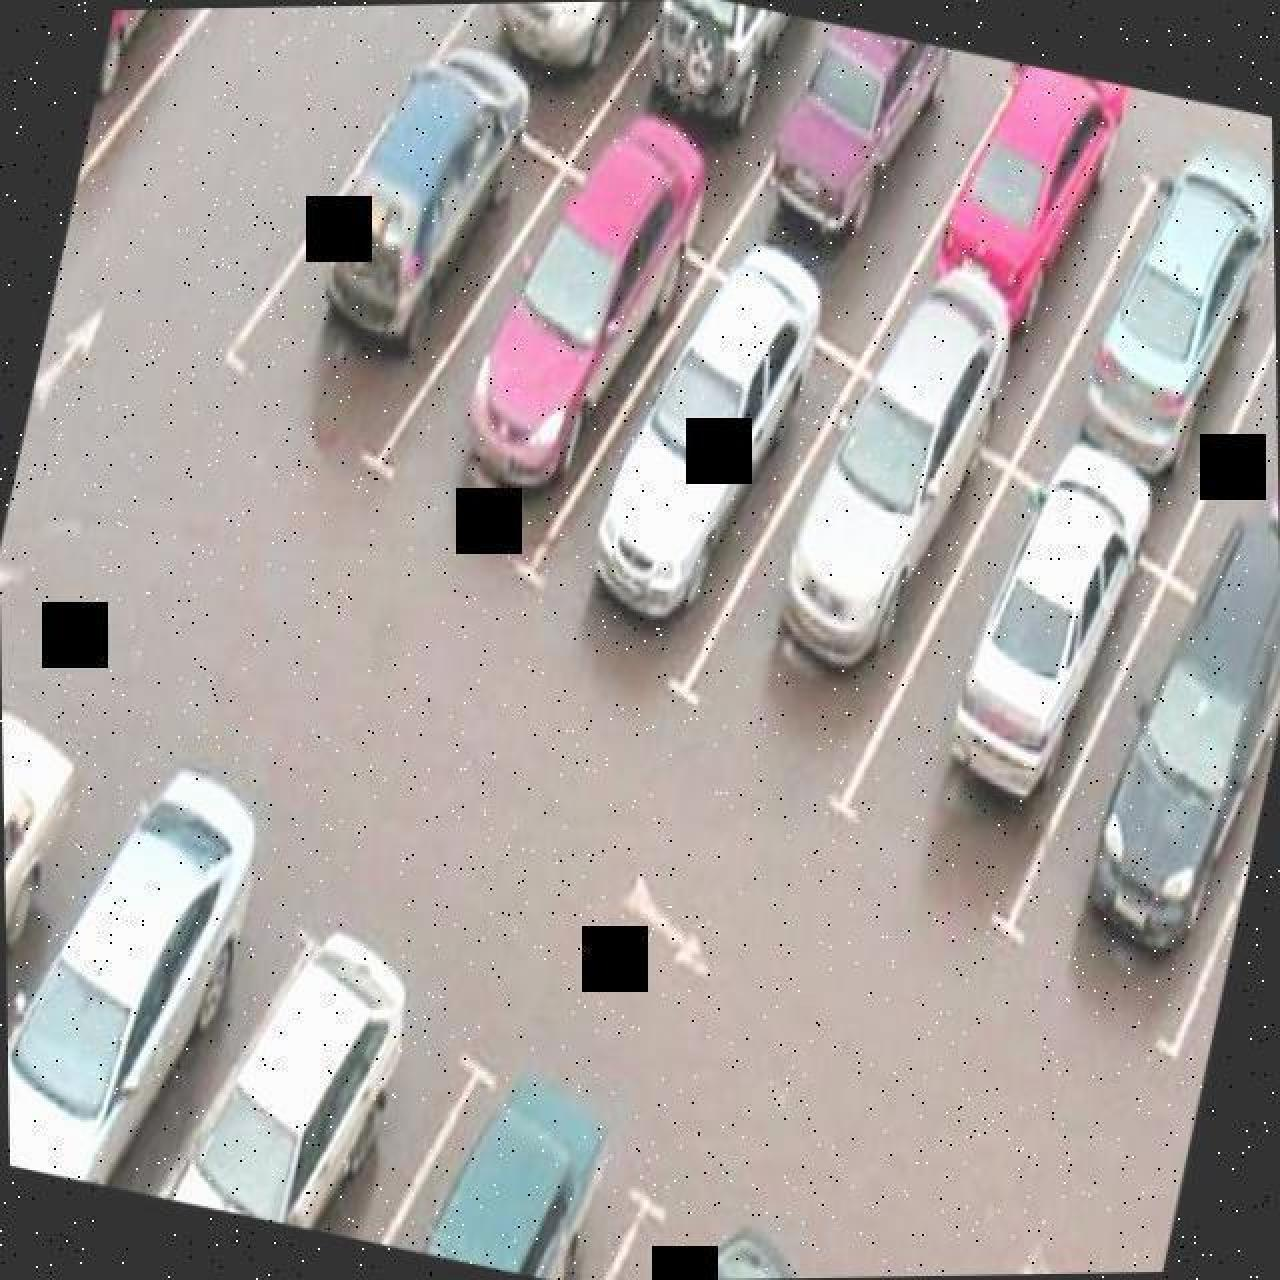occupied: (830, 455, 1175, 941), (667, 353, 1023, 817), (513, 254, 872, 705), (363, 150, 723, 590), (214, 58, 577, 475), (849, 81, 1166, 484), (998, 175, 1280, 590), (695, 27, 1021, 382), (151, 931, 492, 1245), (378, 1066, 657, 1280)
